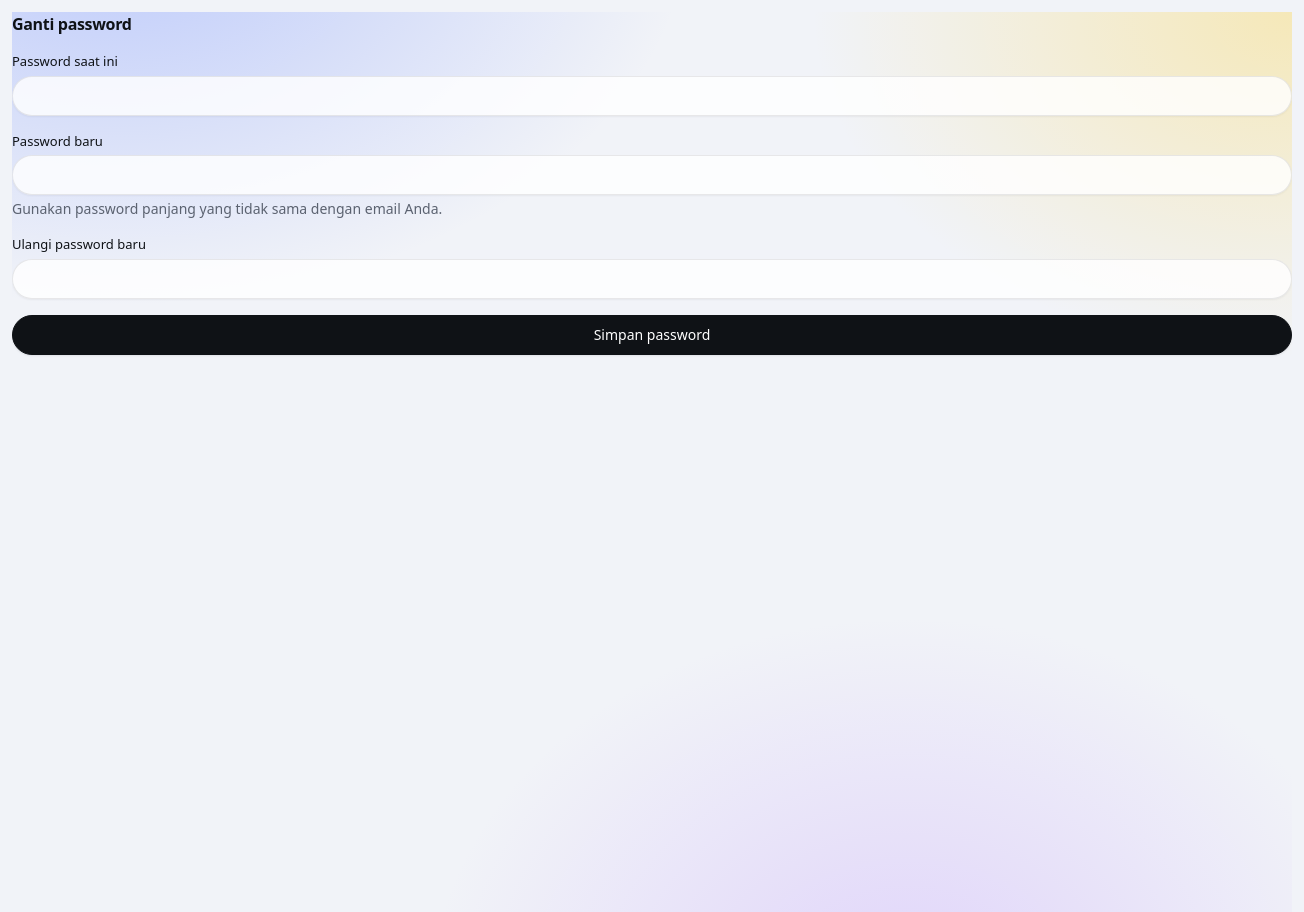
Test: ChangePasswordView › shows server field error
Type "sementara-1" into the password field labelled "Password saat ini" at {"x": 652, "y": 96}, box [12,76,1292,116]
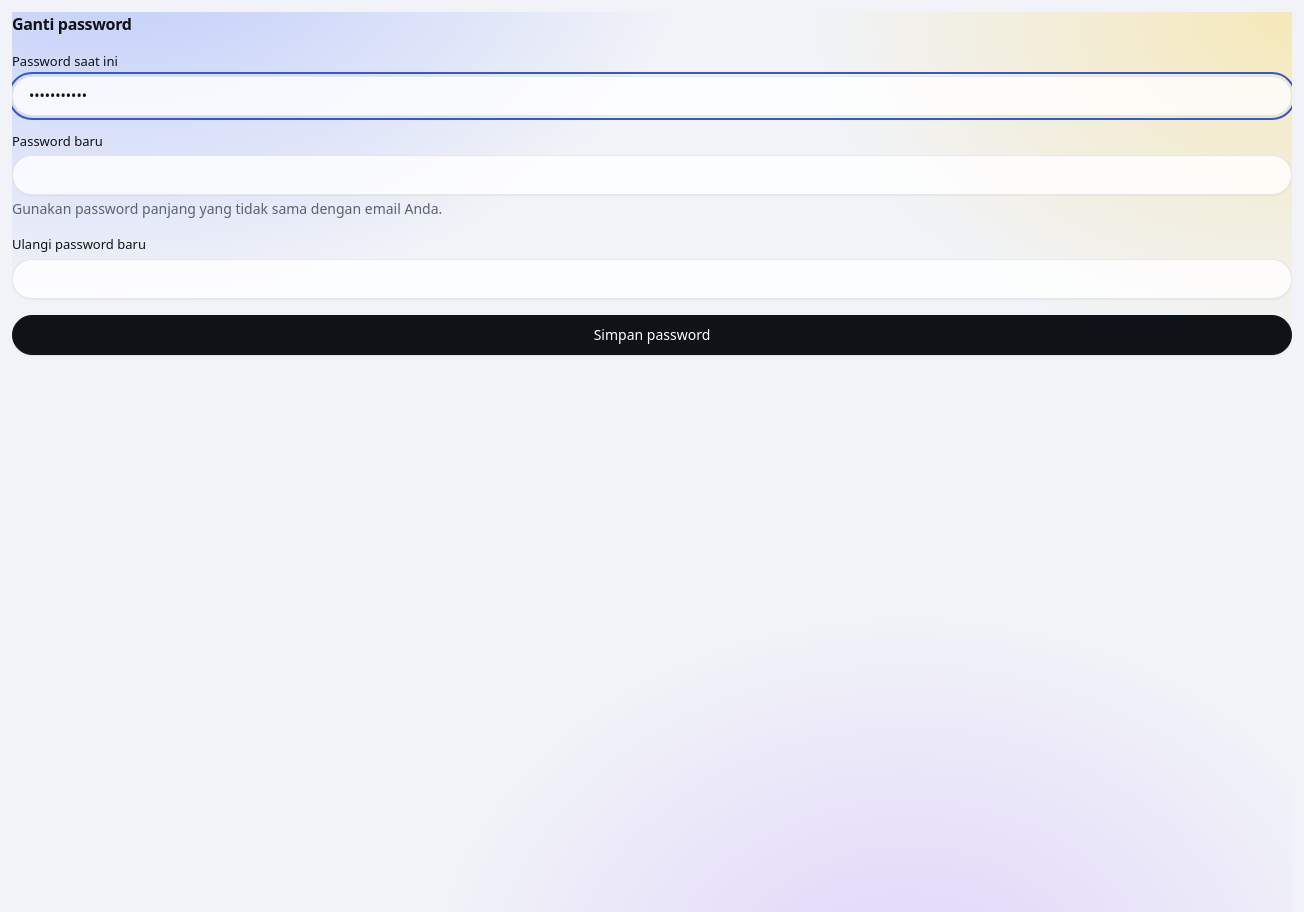
Type "baru-sangat-rahasia" into the password field labelled "Password baru" at {"x": 652, "y": 175}, box [12,155,1292,195]
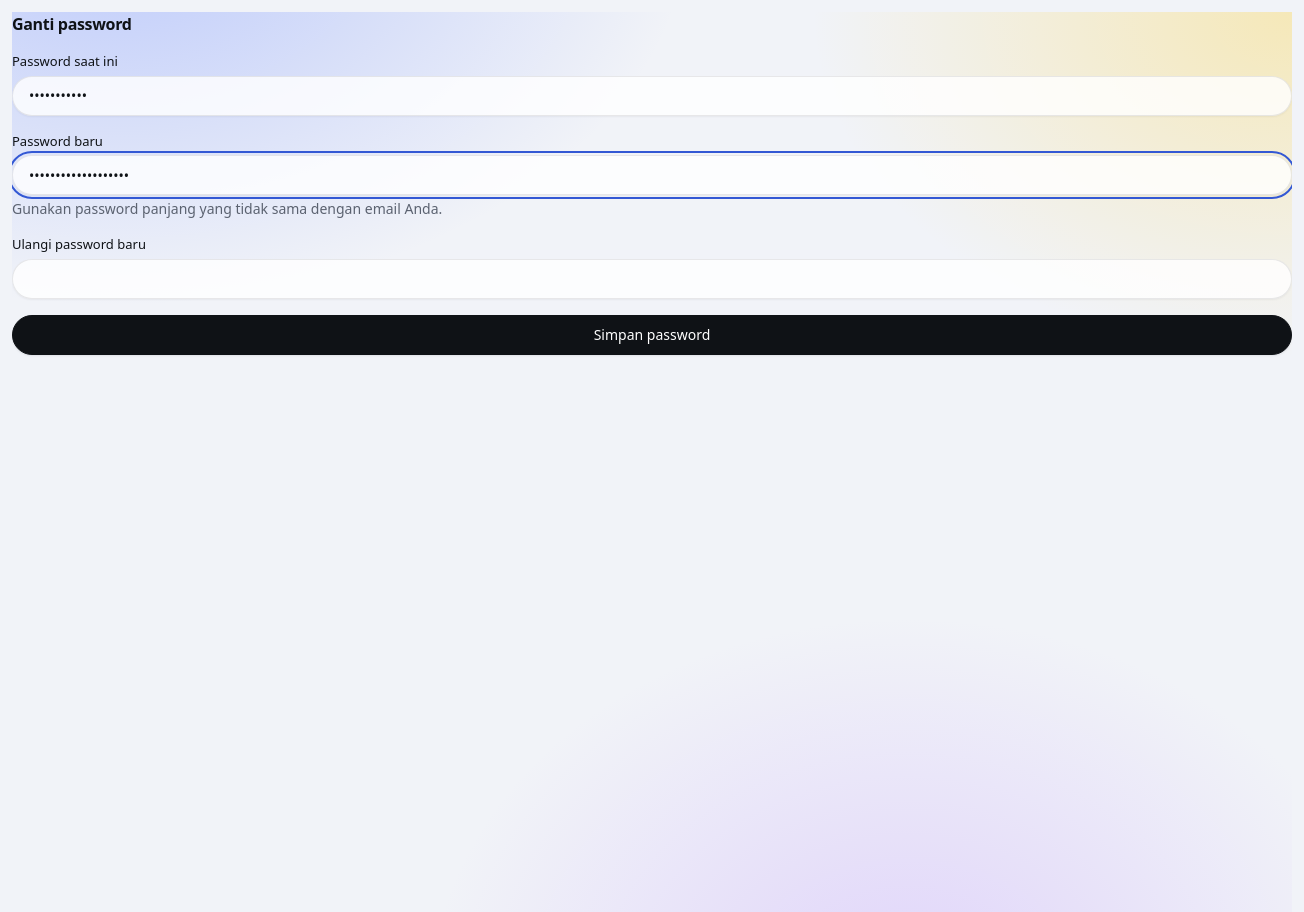
Type "baru-sangat-rahasia" into the password field labelled "Ulangi password baru" at {"x": 652, "y": 278}, box [12,258,1292,298]
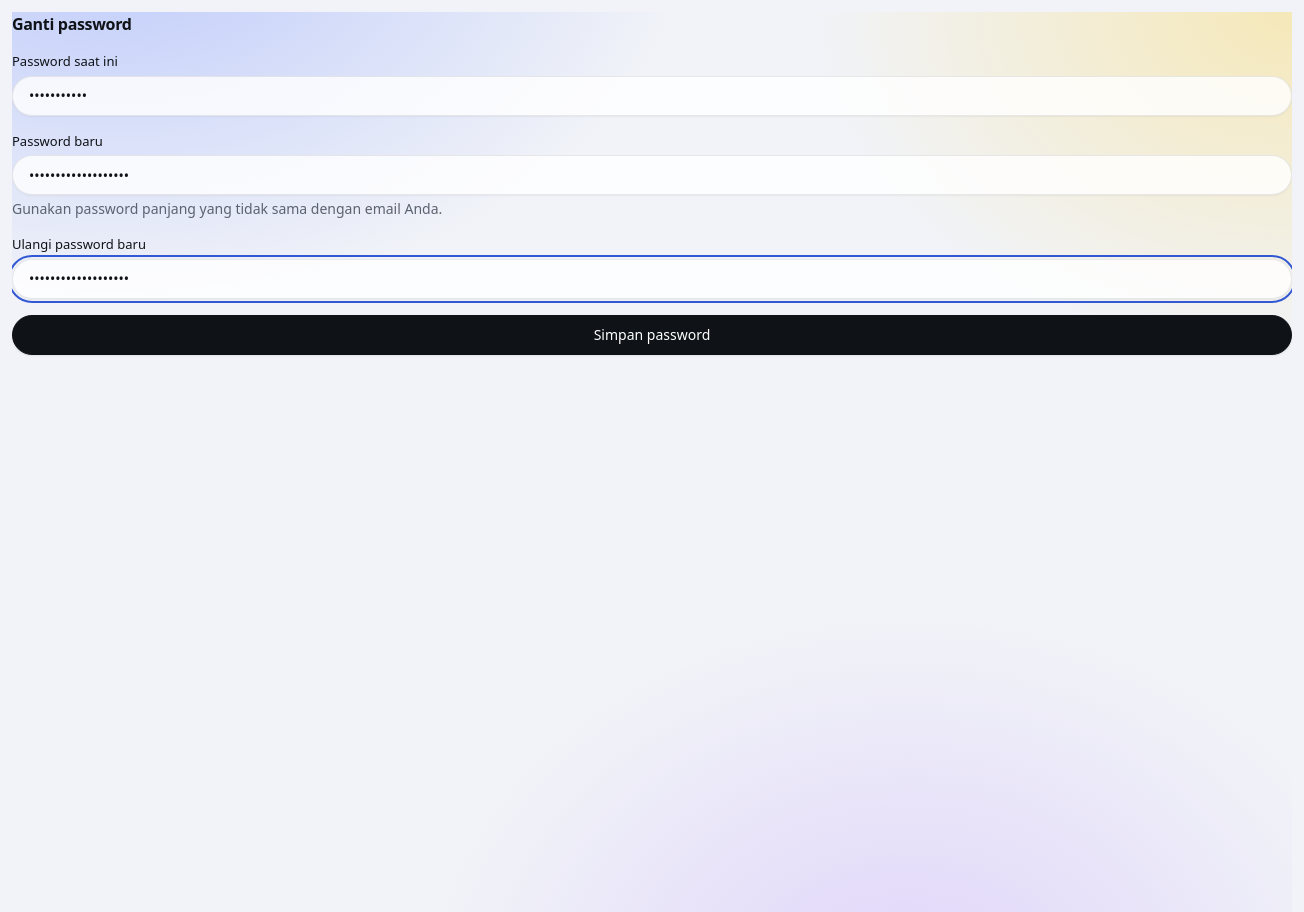
Click the button "Simpan password" at {"x": 652, "y": 334}, box [12,314,1292,354]
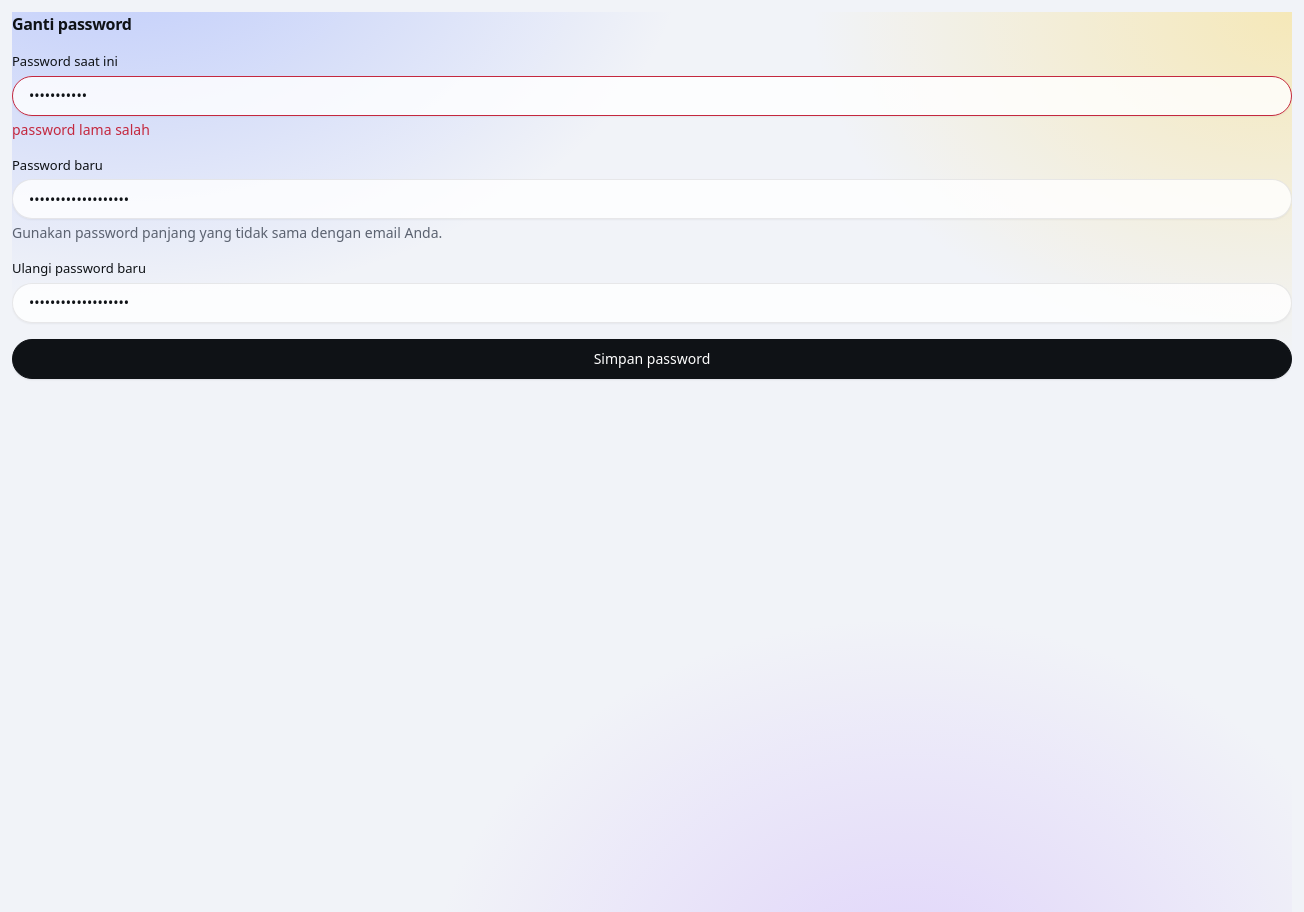
Expected: the text "password lama salah" is shown, [12,120,150,138]
